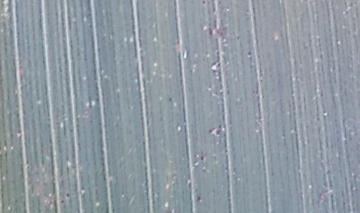tarspot: (243, 47, 256, 59), (193, 193, 204, 205), (197, 151, 207, 164), (196, 1, 211, 7), (166, 95, 176, 104), (64, 191, 73, 200)
